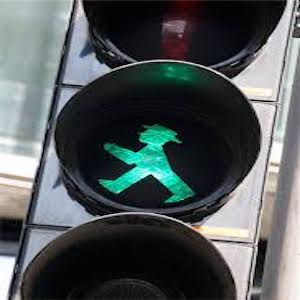green: (91, 118, 201, 216)
